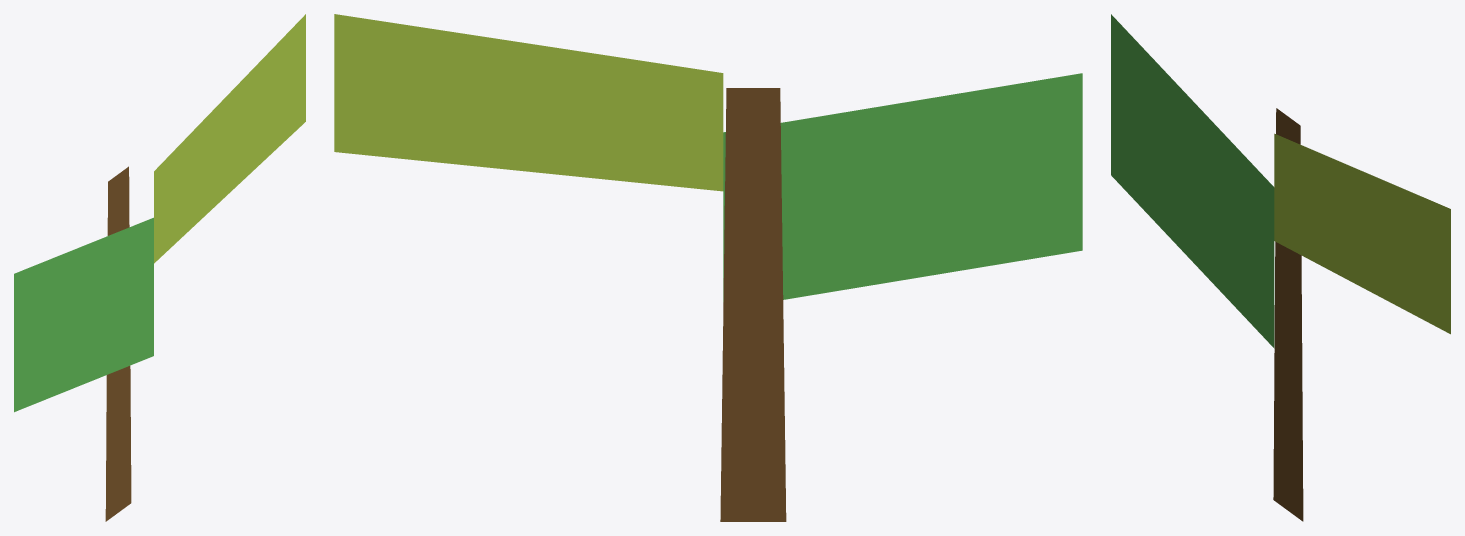
File: original_plant.glb
3 renders of one model, left to right at view 1: azimuth 30°, elevation 25°; view 2: azimuth 150°, elevation 25°; view 3: azimuth 270°, elevation 25°, orthographic. The views are drawn at different scales.
Visible parts, largest first — view 1: LeafPair, Stem; view 2: LeafPair, Stem; view 3: LeafPair, Stem.
Boxes of the visible parts, bbox=[...] form: LeafPair: bbox=[14, 14, 305, 412]; Stem: bbox=[105, 166, 131, 521]; LeafPair: bbox=[334, 14, 1082, 301]; Stem: bbox=[720, 88, 786, 521]; LeafPair: bbox=[1111, 14, 1450, 348]; Stem: bbox=[1273, 108, 1303, 521].
Size of the model in its own units: 1.19 by 1 by 0.6875.
